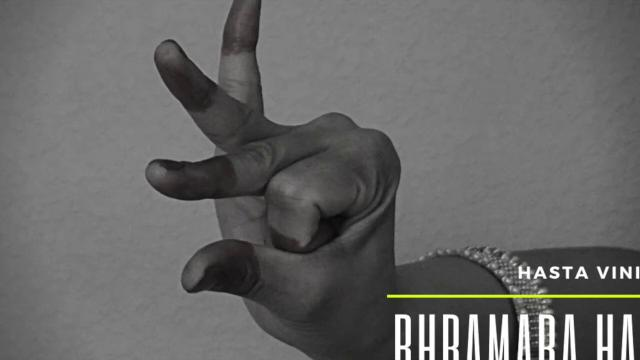bhramara: (118, 3, 436, 356)
